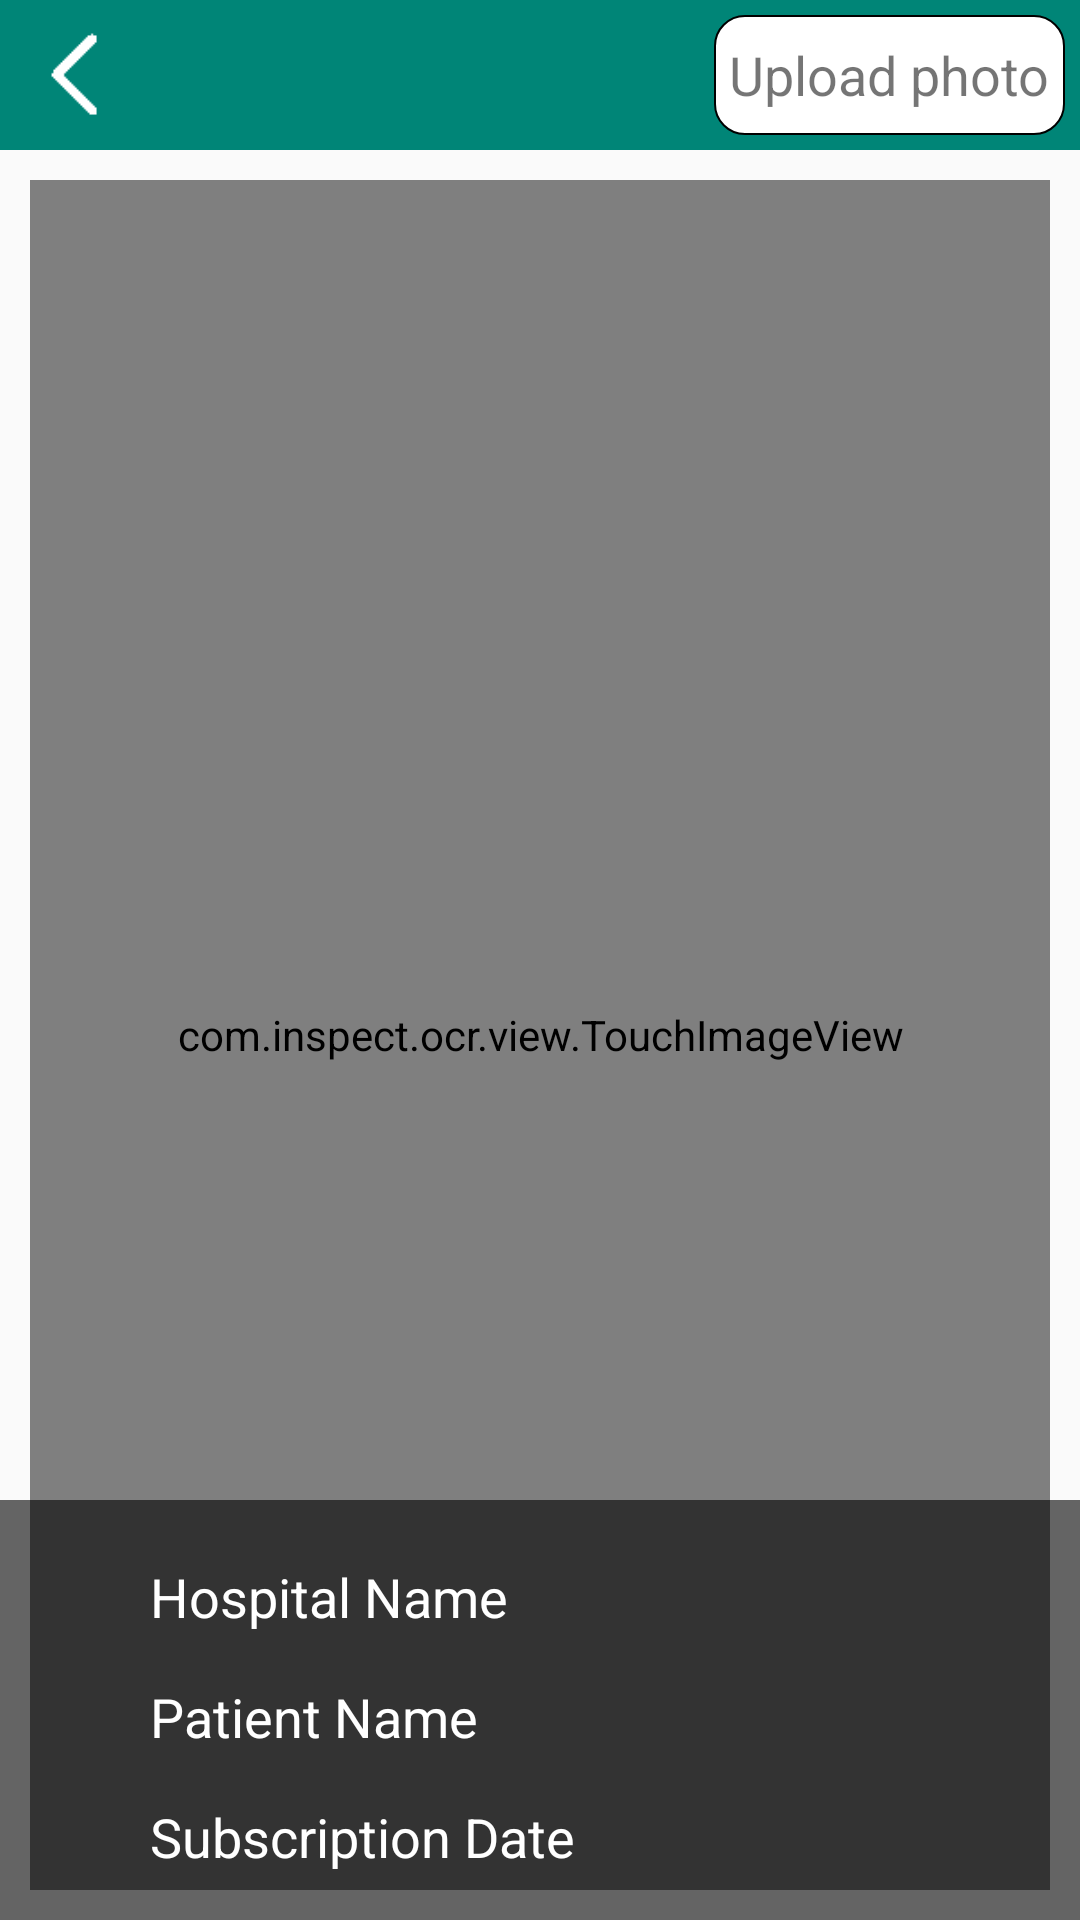

Locate icon controls on the screen. Image size 1080x1920, boxes as Rect(x1, y1, x2, y2).
back: Rect(51, 33, 97, 115)
